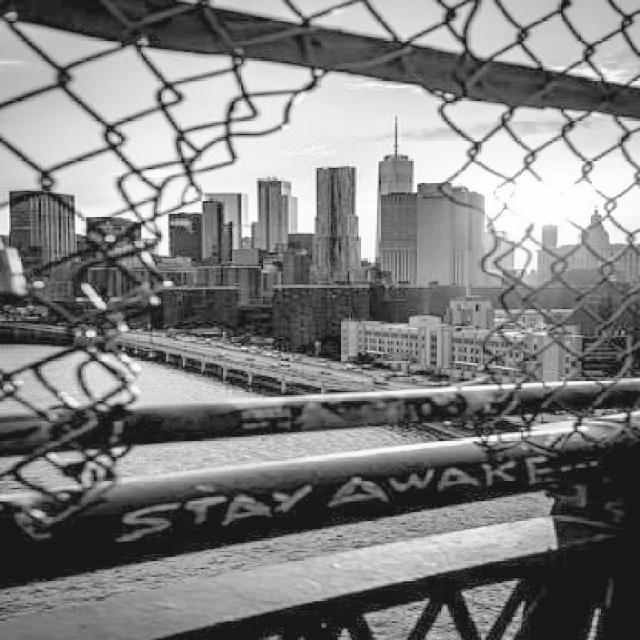anomaly-fence: (68, 22, 640, 485)
